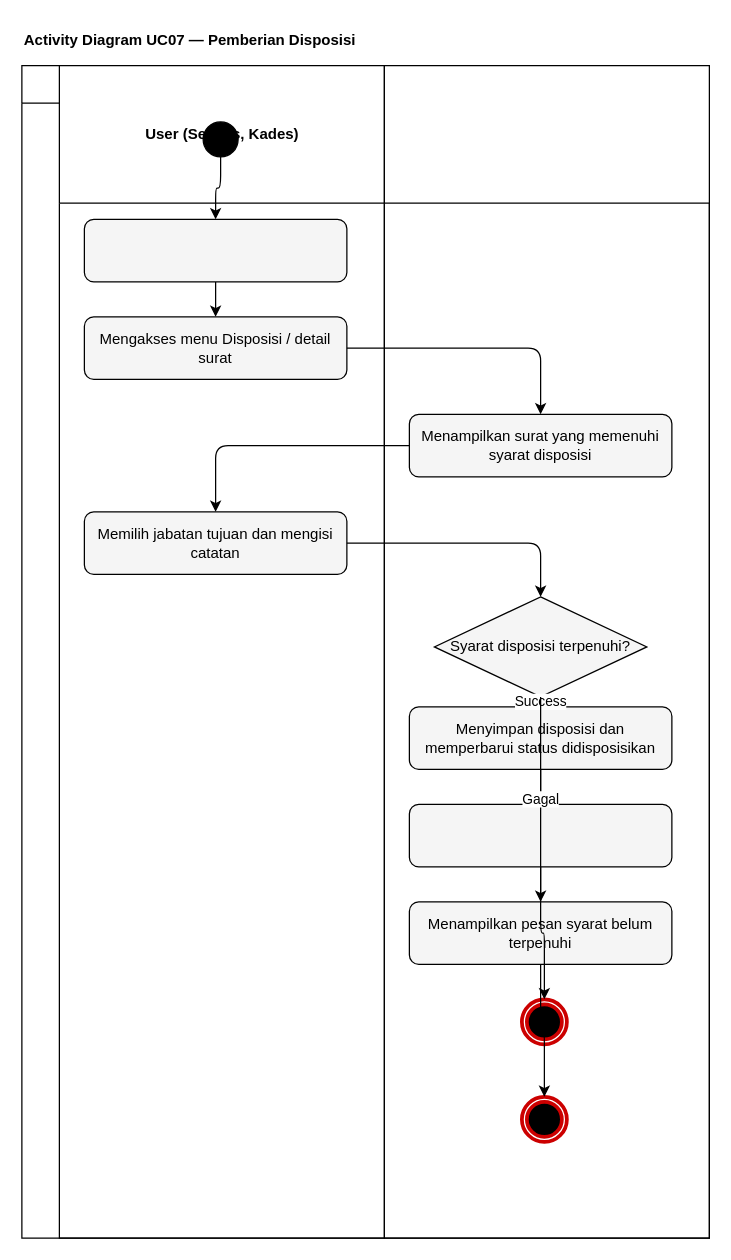
Image size: 731x1260. Some labels were removed from this diagram. Here are the shapes that lost their labels. From the top down, the box of each, then its label:
(83, 218, 347, 282): Berhasil login
(383, 64, 709, 1238): Sistem
(408, 803, 672, 867): Menampilkan pesan berhasil
